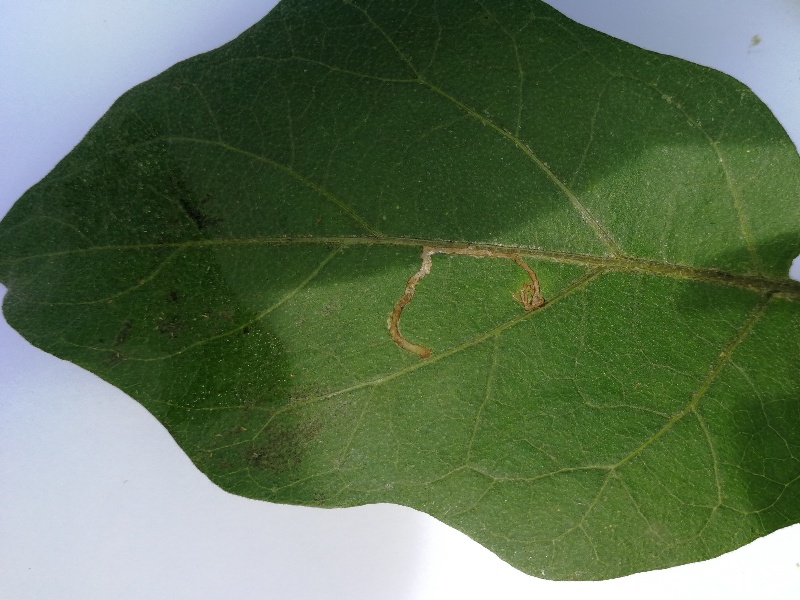leafminer: (382, 247, 549, 363)
